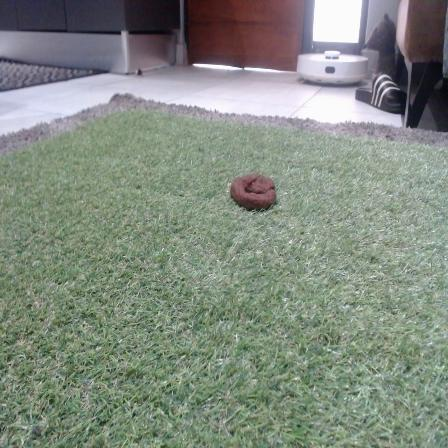dog-poop: (227, 168, 279, 214)
